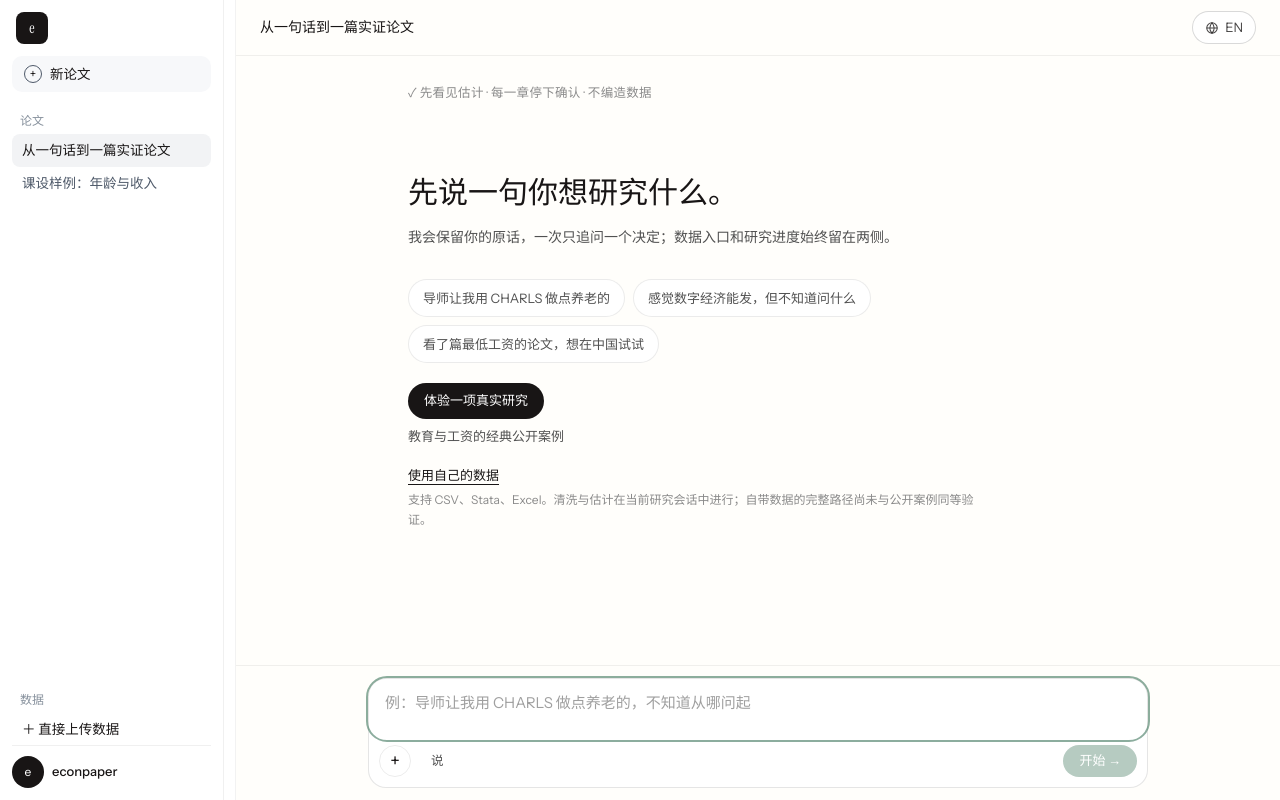
DeskPage › 倒出想法后出现一张可改的问题卡，一次只问一件事
The width and height of the screenshot is (1280, 800).
Type "导师让我用 CHARLS 做点养老的" into the text box with test id "desk-paper" at (758, 709), box [369,679,1147,739]
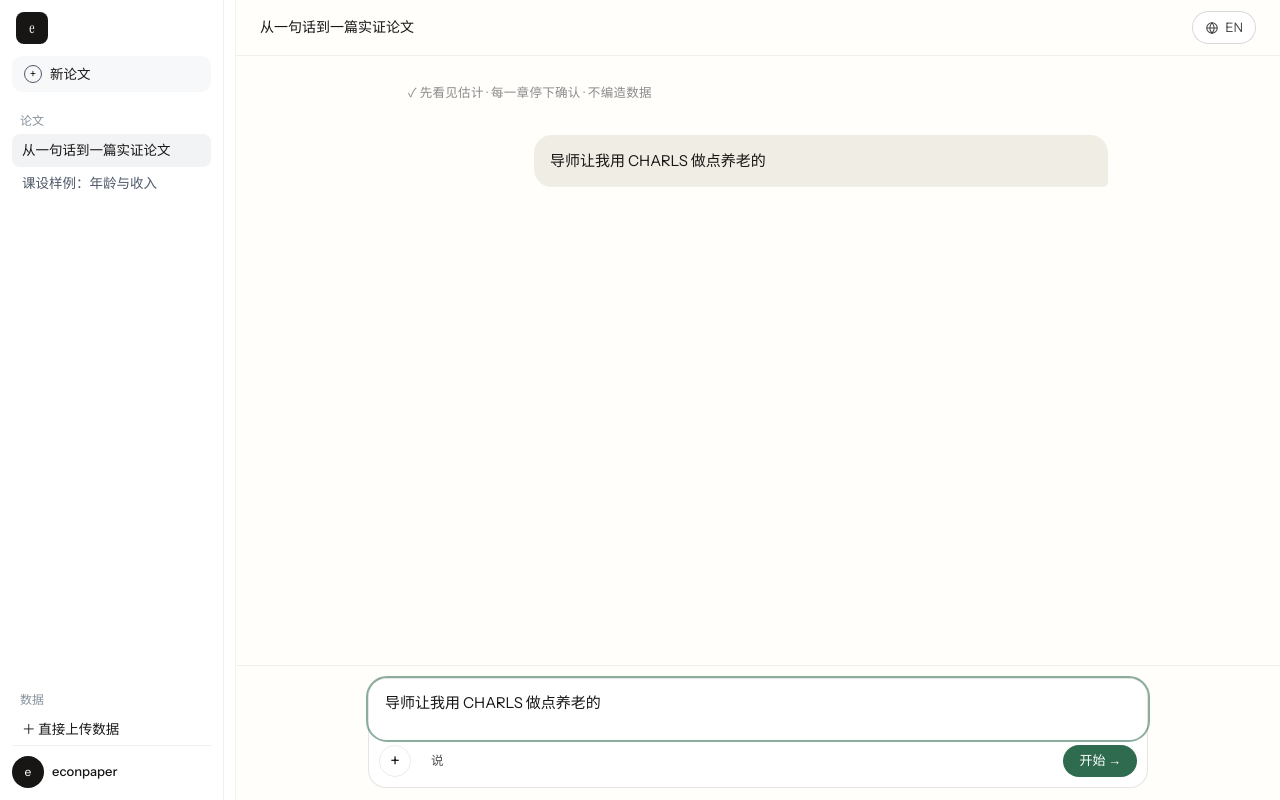
Click the button with test id "desk-shape-btn" at (1100, 761), box [1063,745,1137,777]
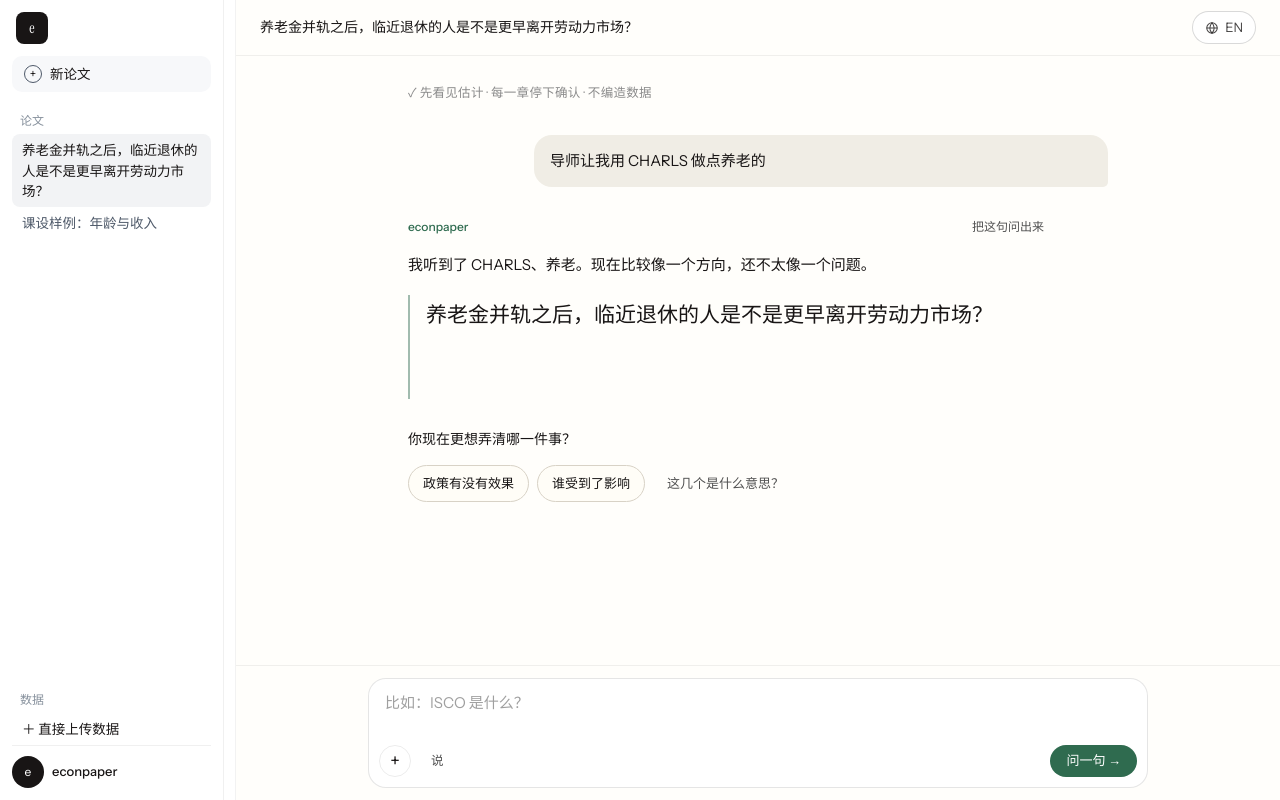
expect the element with test id "desk-thread" shows "导师让我用 CHARLS 做点养老的": met, box [550,151,766,170]
expect the element with test id "question-card" is shown: met, box [408,215,1052,518]
expect the button with test id "desk-option-policy" is shown: met, box [408,465,529,502]
